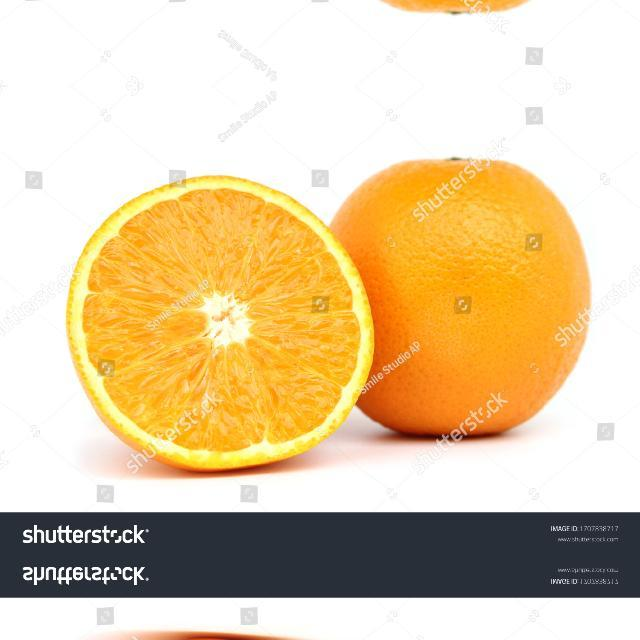Orange: (64, 173, 375, 472), (328, 155, 592, 438), (342, 0, 574, 14)
